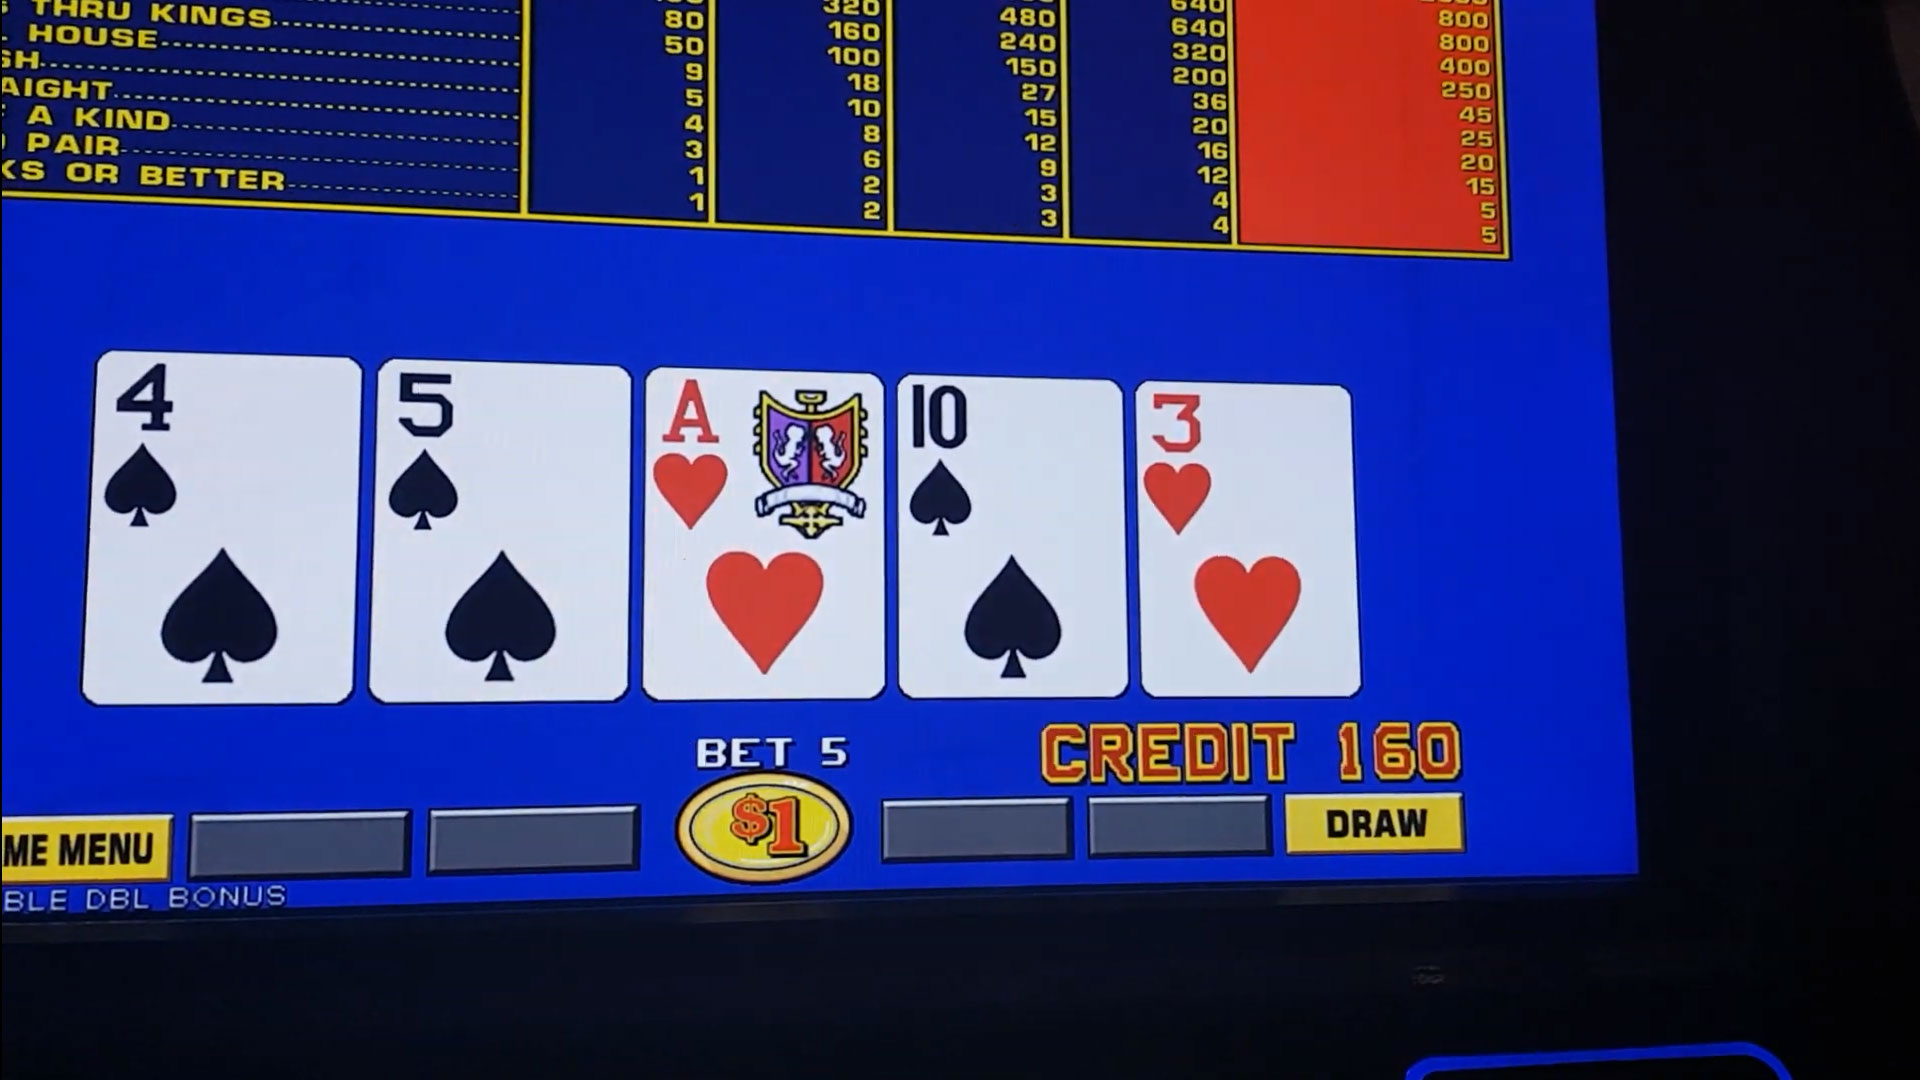H3: (1141, 390, 1346, 546)
HA: (649, 372, 880, 543)
S4: (104, 361, 352, 539)
S5: (380, 372, 622, 549)
ST: (901, 381, 1121, 549)
